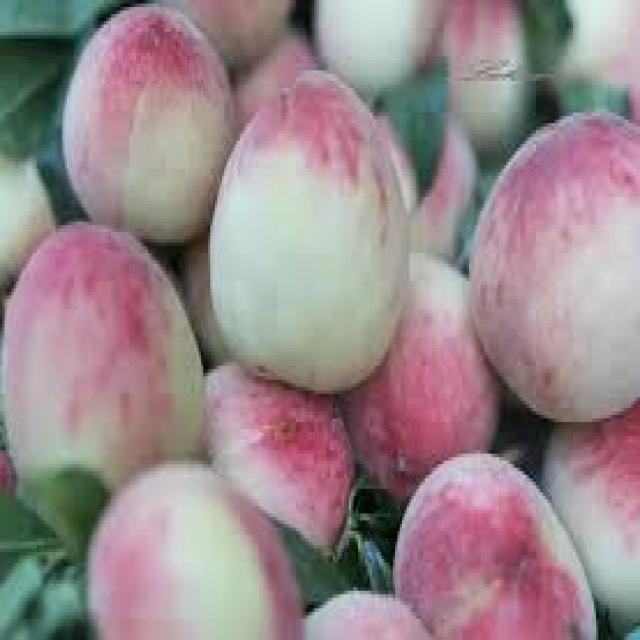organic waste: (206, 63, 407, 394), (0, 218, 201, 517), (462, 105, 638, 415), (339, 246, 496, 503), (60, 0, 229, 236), (390, 443, 594, 637), (81, 457, 298, 637), (201, 355, 351, 549), (540, 398, 638, 636), (430, 0, 529, 141), (310, 0, 441, 88), (171, 0, 289, 70), (296, 576, 432, 636), (414, 120, 472, 253), (231, 35, 310, 130), (180, 229, 231, 369), (0, 158, 53, 282), (568, 0, 638, 88)
